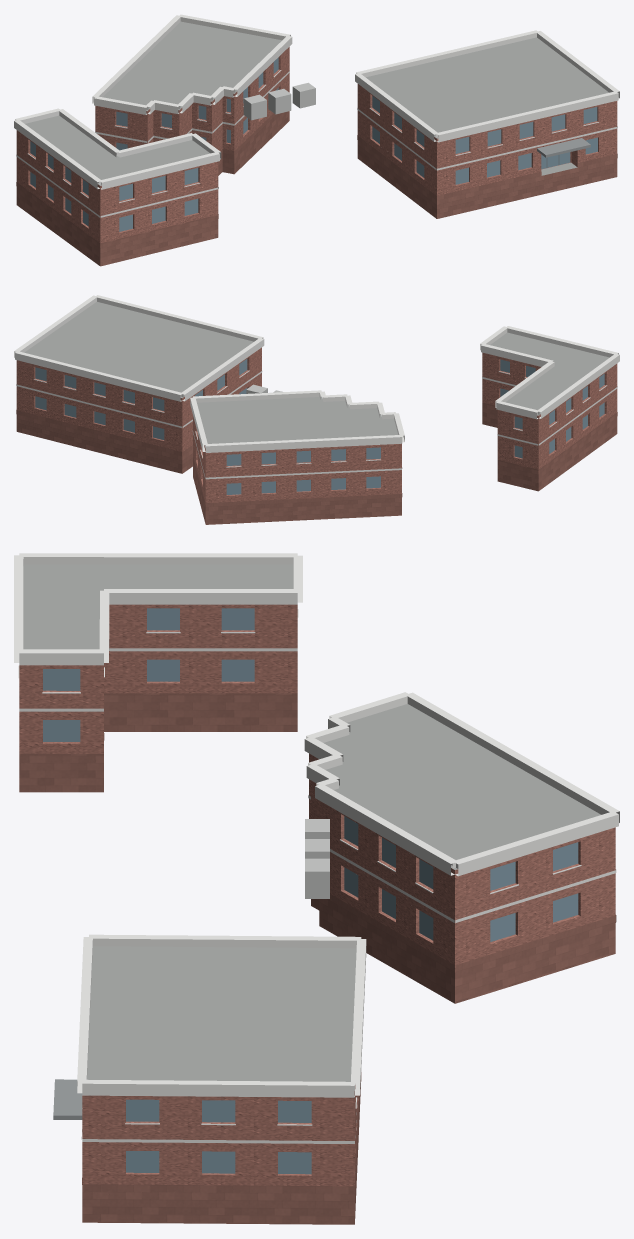
3 views of the same model, one above another, from view 1: azimuth 30°, elevation 25°; view 2: azimuth 150°, elevation 25°; view 3: azimuth 270°, elevation 25° (orthographic). The views are drawn at different scales.
Visible parts, largest first — view 1: centralWarehouseE10__wall, centralWarehouseE10__roof, centralWarehouseE10__trim, centralWarehouseE10__base, centralWarehouseE10__glass, centralWarehouseE10__roofMetal, centralWarehouseE10__canopy; view 2: centralWarehouseE10__wall, centralWarehouseE10__roof, centralWarehouseE10__trim, centralWarehouseE10__base, centralWarehouseE10__glass; view 3: centralWarehouseE10__roof, centralWarehouseE10__wall, centralWarehouseE10__trim, centralWarehouseE10__base, centralWarehouseE10__glass, centralWarehouseE10__roofMetal, centralWarehouseE10__canopy.
Part boxes in pixels (x1,y1,x2,y2): centralWarehouseE10__wall: [16, 47, 617, 247]; centralWarehouseE10__roof: [25, 21, 608, 185]; centralWarehouseE10__trim: [14, 14, 619, 217]; centralWarehouseE10__base: [16, 111, 617, 266]; centralWarehouseE10__glass: [30, 57, 597, 231]; centralWarehouseE10__roofMetal: [243, 82, 315, 120]; centralWarehouseE10__canopy: [537, 138, 590, 157]; centralWarehouseE10__wall: [16, 347, 617, 505]; centralWarehouseE10__roof: [24, 302, 609, 448]; centralWarehouseE10__trim: [14, 295, 619, 479]; centralWarehouseE10__base: [16, 402, 617, 524]; centralWarehouseE10__glass: [35, 359, 604, 494]; centralWarehouseE10__roof: [23, 564, 600, 1090]; centralWarehouseE10__wall: [19, 604, 615, 1186]; centralWarehouseE10__trim: [14, 553, 619, 1143]; centralWarehouseE10__base: [19, 693, 616, 1224]; centralWarehouseE10__glass: [43, 608, 578, 1174]; centralWarehouseE10__roofMetal: [305, 819, 329, 898]; centralWarehouseE10__canopy: [53, 1079, 82, 1119].
Bounding box in the file's own units: 75.69 × 18.64 × 43.96.
9 materials, 2 textured.
